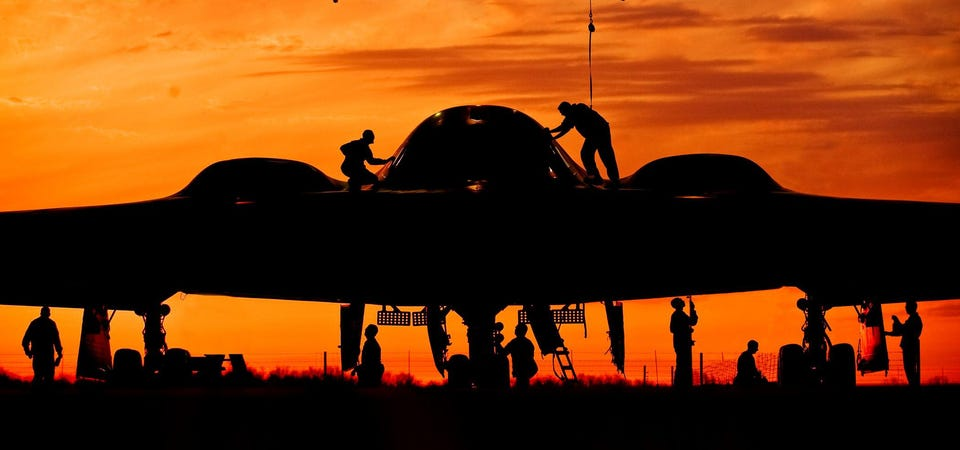B2: (1, 104, 960, 387)
